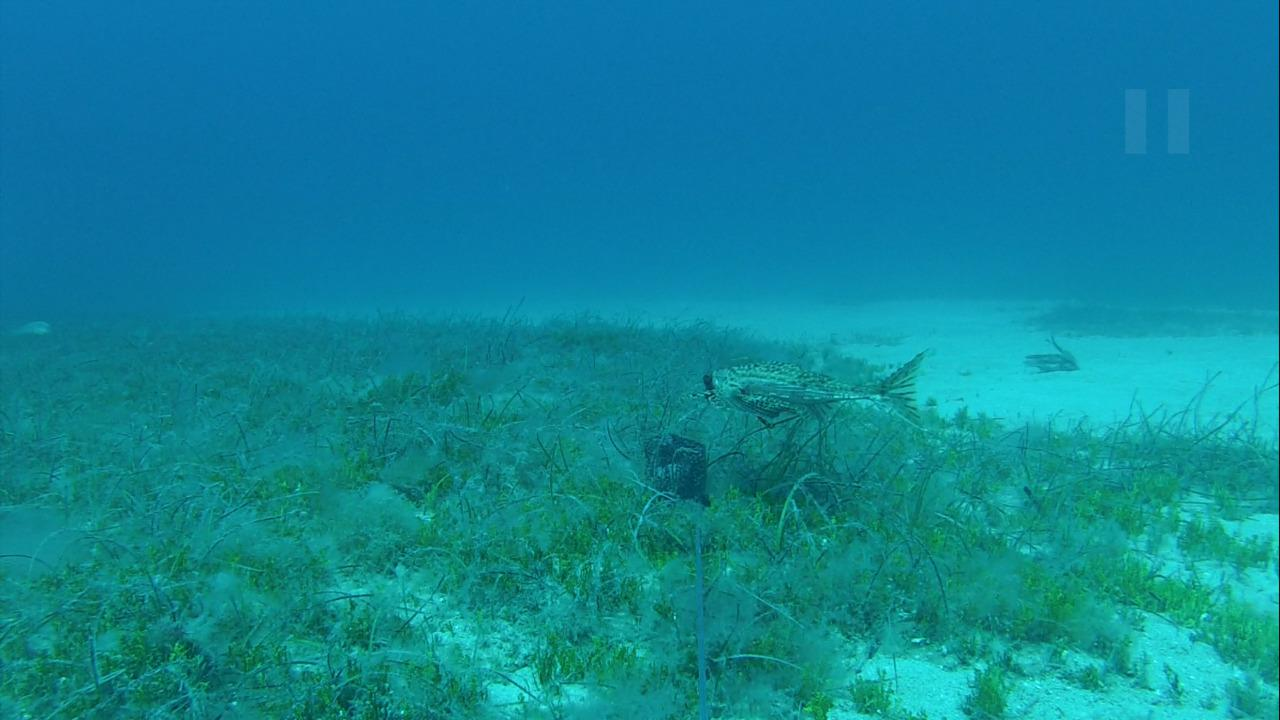dactylopterus: (699, 336, 930, 438)
